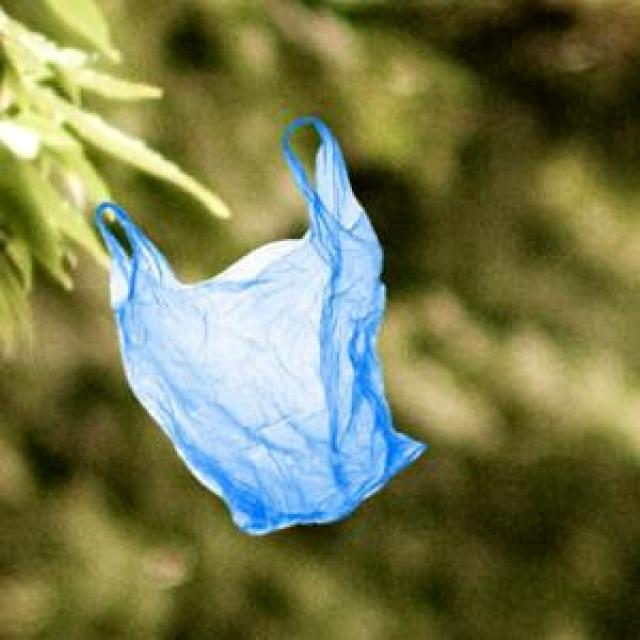Plastic_Bag: (92, 114, 422, 530)
